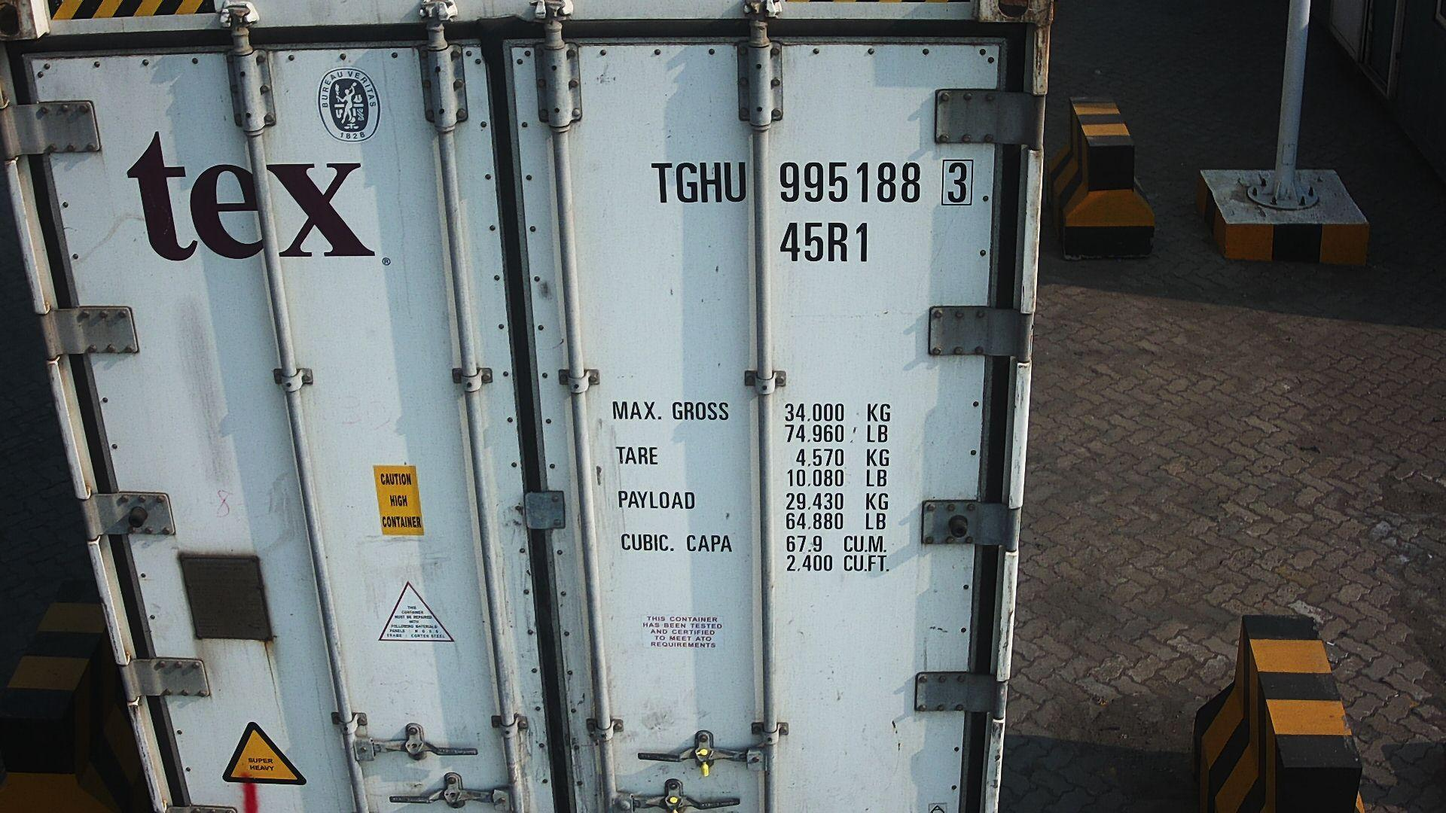container-numbers: (645, 157, 977, 210), (776, 218, 875, 267)
